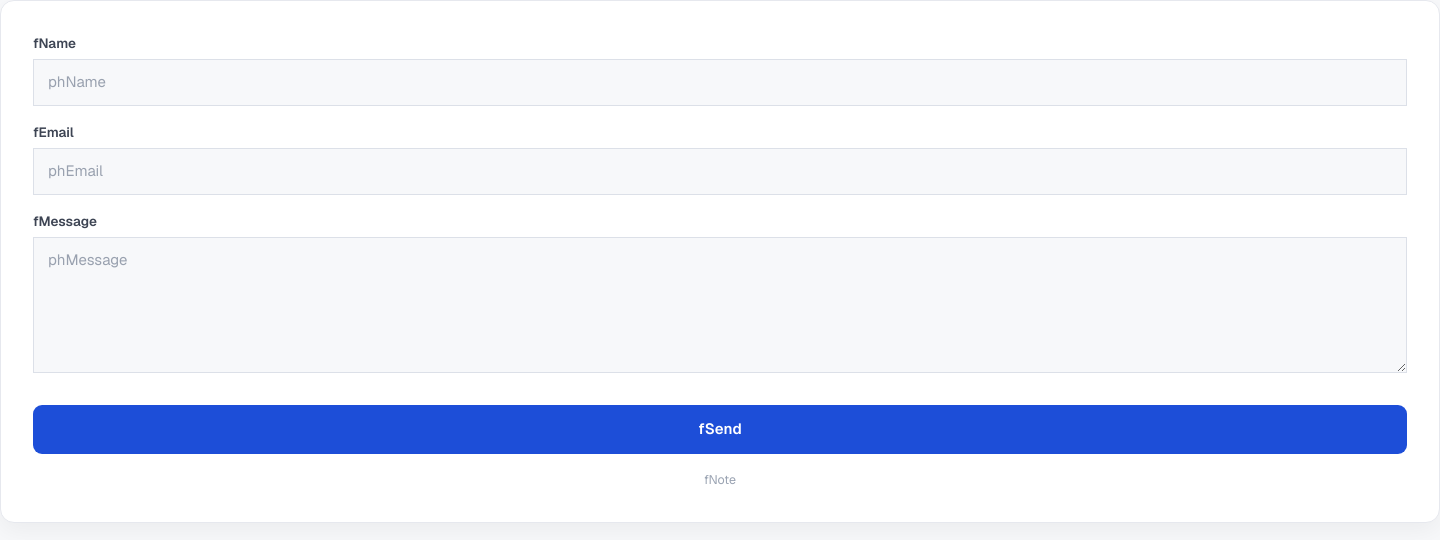
Test: ContactForm › shows the verification error when the action reports a Turnstile failure
Type "Jane Doe" into the field labelled "fName" at x=720, y=83, box x1=33 y1=59 x2=1407 y2=106
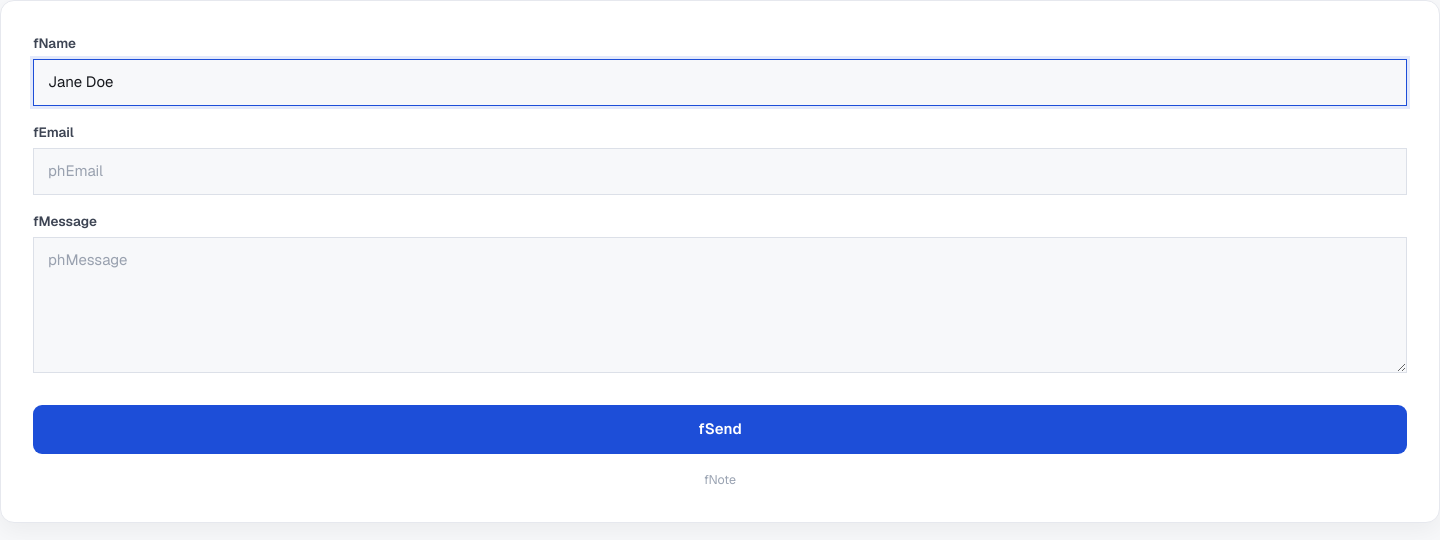
Type "jane@example.com" into the field labelled "fEmail" at x=720, y=171, box x1=33 y1=148 x2=1407 y2=194
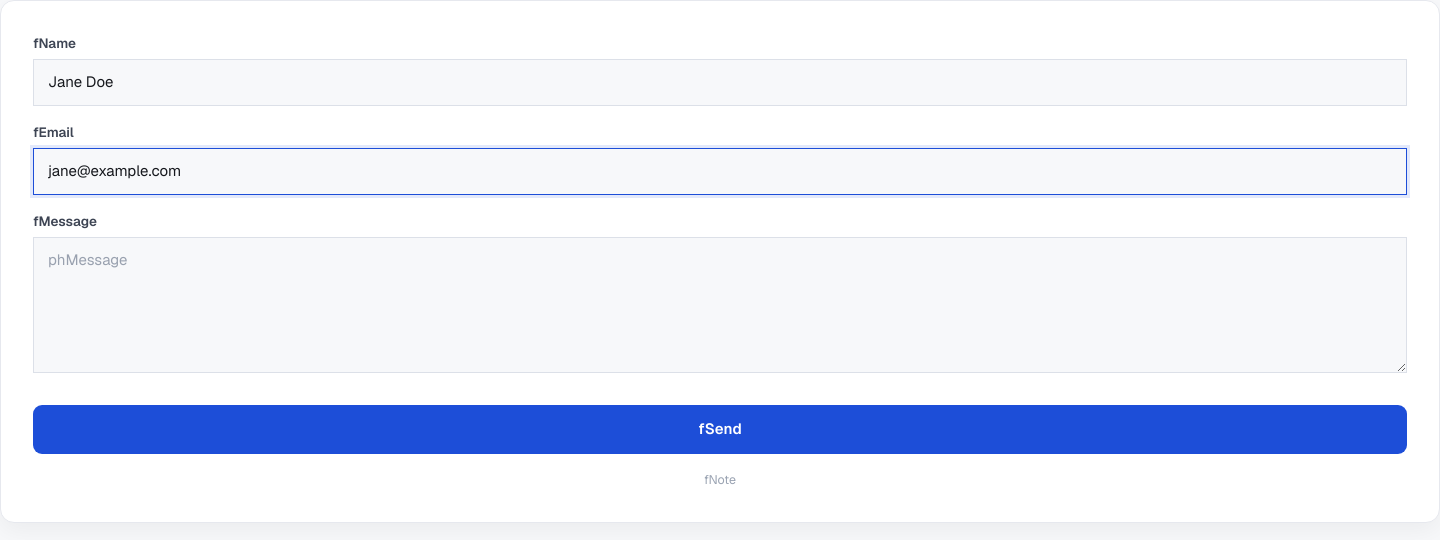
Type "Hello there" into the text box labelled "fMessage" at x=720, y=305, box x1=33 y1=237 x2=1407 y2=373
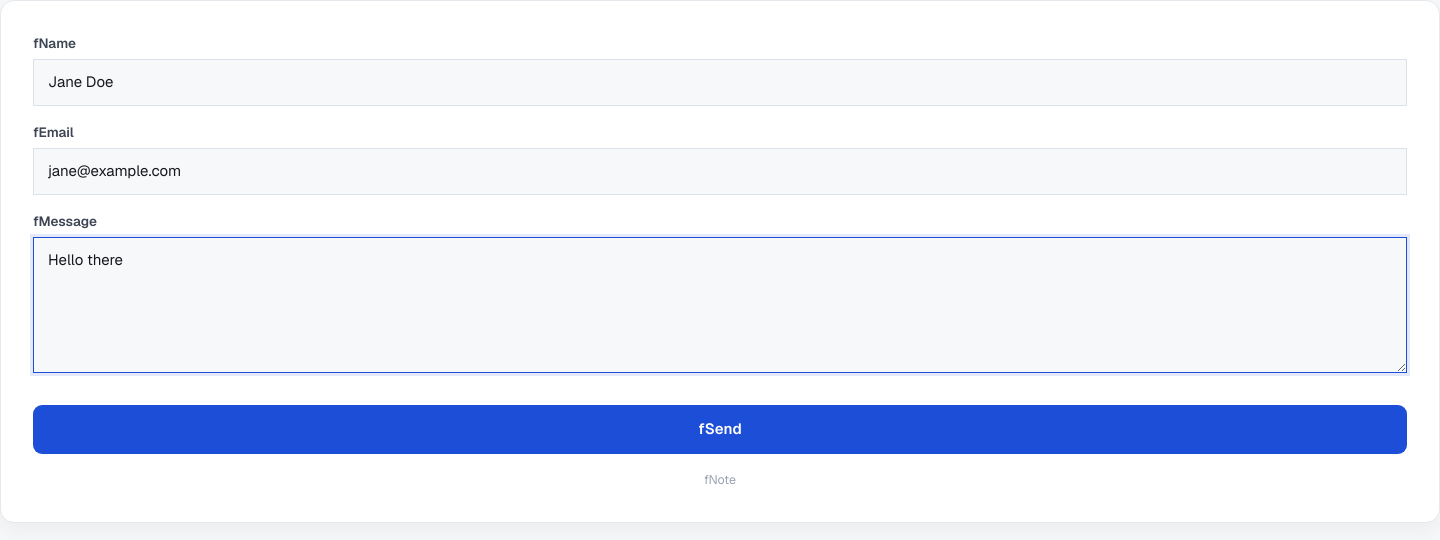
Click the button "fSend" at x=720, y=430, box x1=33 y1=405 x2=1407 y2=454
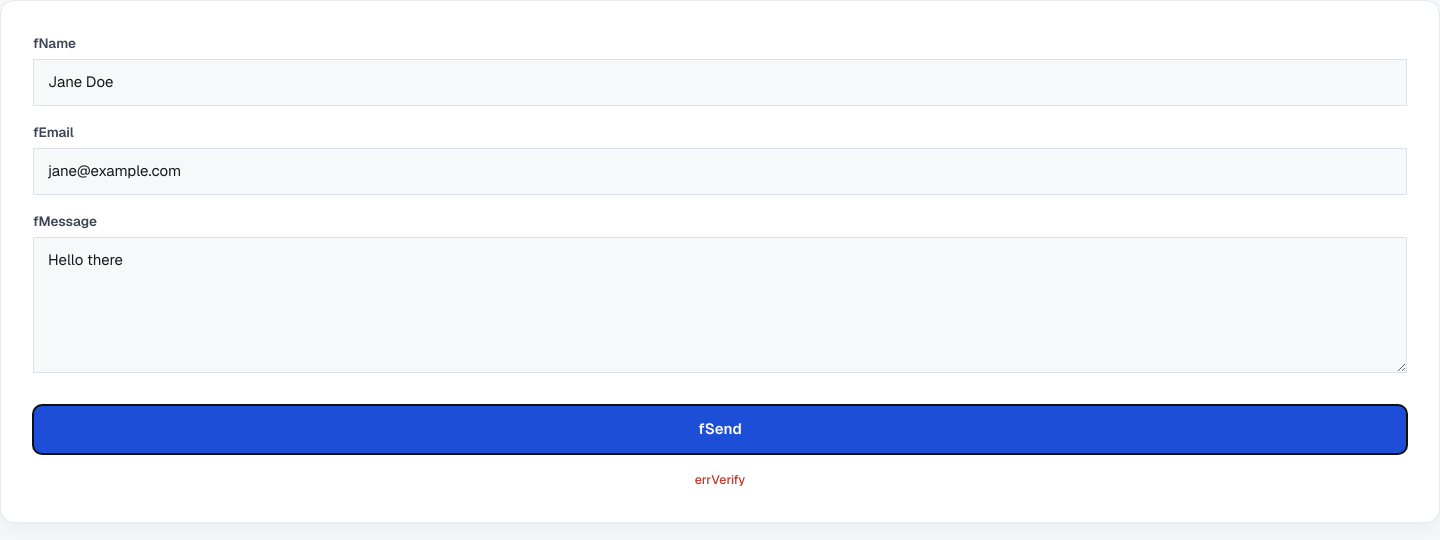
Expected: the text "errVerify" is shown, x1=695 y1=471 x2=745 y2=488
